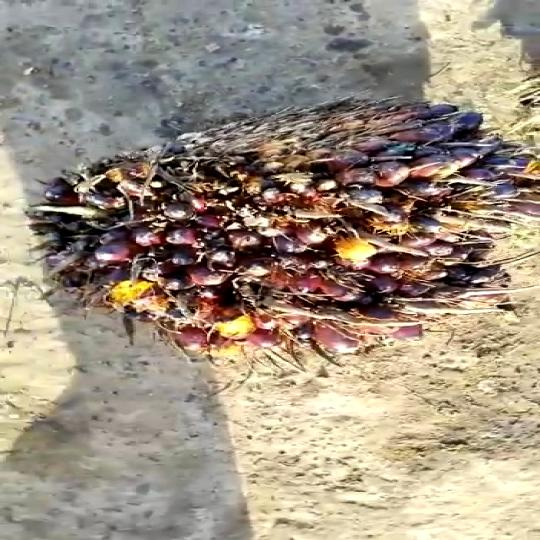masak: (25, 69, 540, 370)
